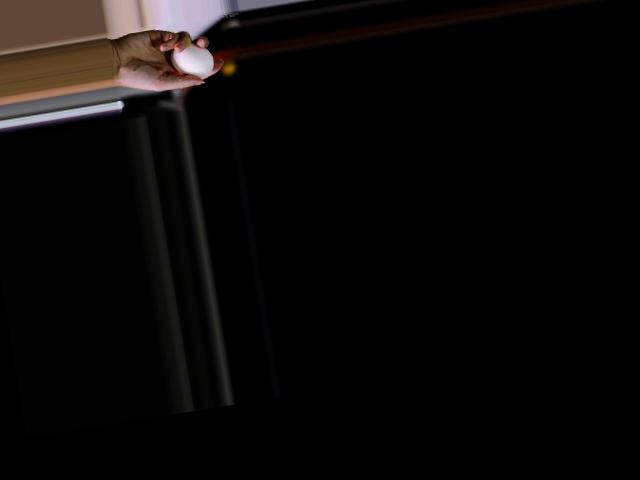egg: (169, 40, 216, 81)
